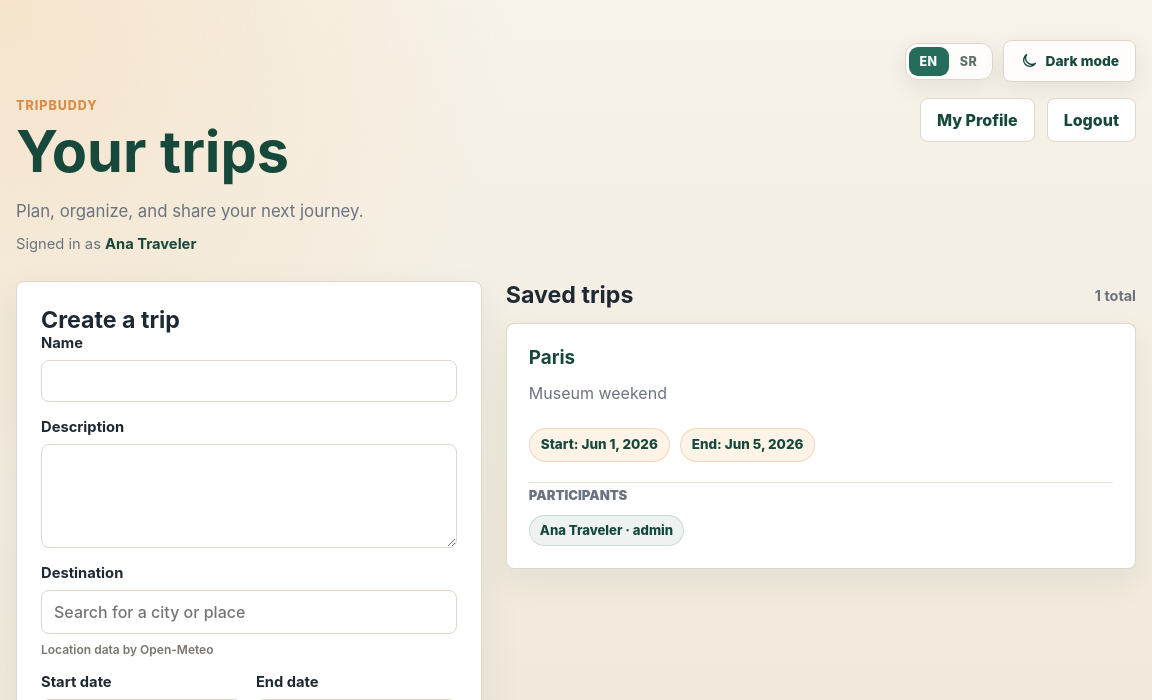
Scenario: TripBuddy frontend › restores a missing user from /auth/me for a legacy token session
Expected: the text "Ana Traveler" is shown, [105,235,196,253]
Click the button "Paris" at (821,446), box [506,323,1136,569]
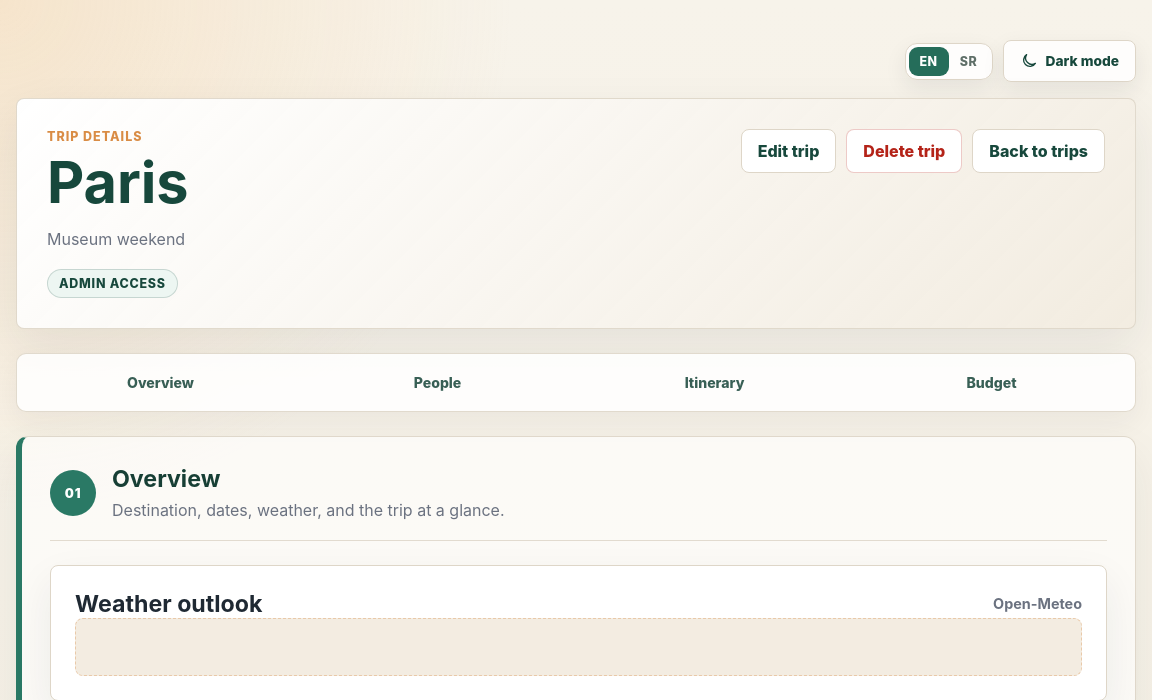
Expected: the button "Edit trip" is shown, [741,129,836,173]
